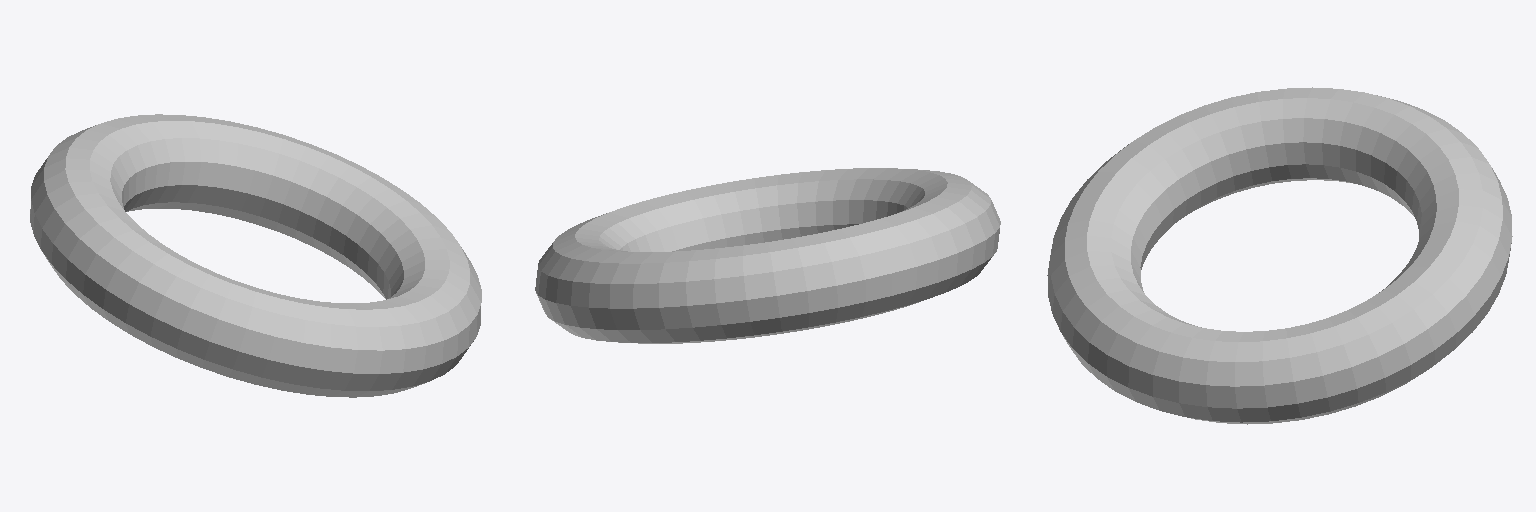
Rendered from rotated_torus_smooth_shading.obj.
The picture shows the model from 3 angles: view 1: azimuth 30°, elevation 25°; view 2: azimuth 150°, elevation 25°; view 3: azimuth 270°, elevation 25°; orthographic projection.
Visible parts, largest first — view 1: Torus_smooth_shading; view 2: Torus_smooth_shading; view 3: Torus_smooth_shading.
Part boxes in pixels (bbox=[...]): Torus_smooth_shading: bbox=[30, 114, 481, 397]; Torus_smooth_shading: bbox=[535, 168, 1000, 343]; Torus_smooth_shading: bbox=[1047, 87, 1512, 424].
Bounding box in the file's own units: 2.42 × 1.07 × 2.47.